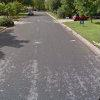Tree: (42, 1, 93, 17)
